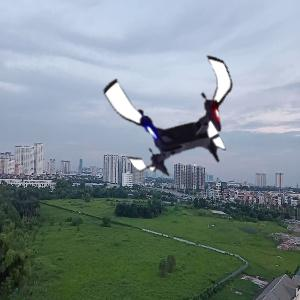drone: (110, 45, 250, 185)
